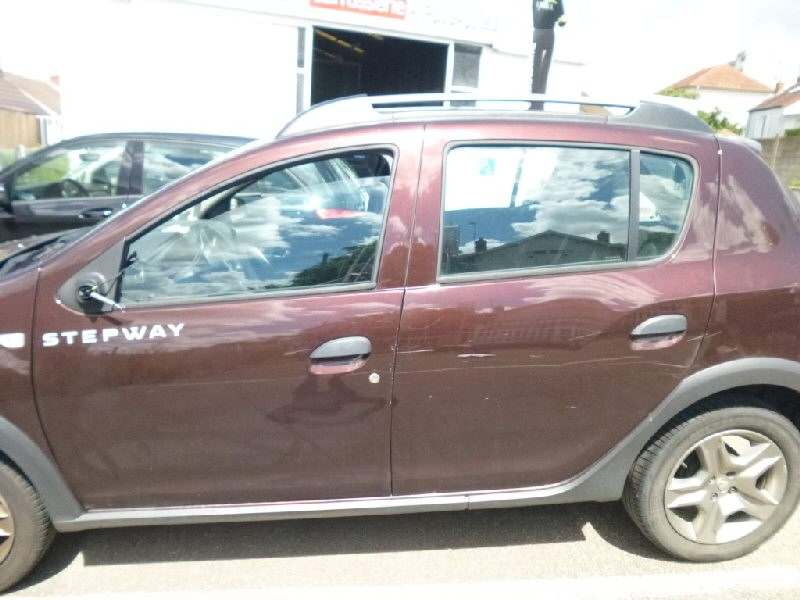front door: (22, 109, 438, 558)
